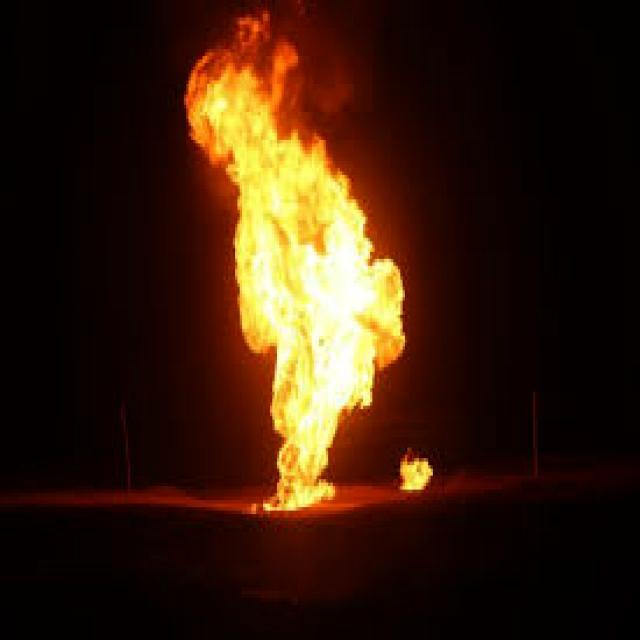fire: (181, 3, 423, 510)
